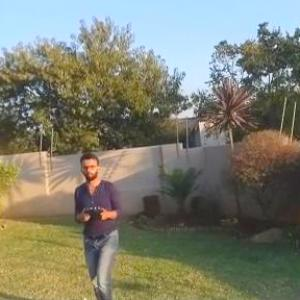follow: (67, 146, 123, 299)
